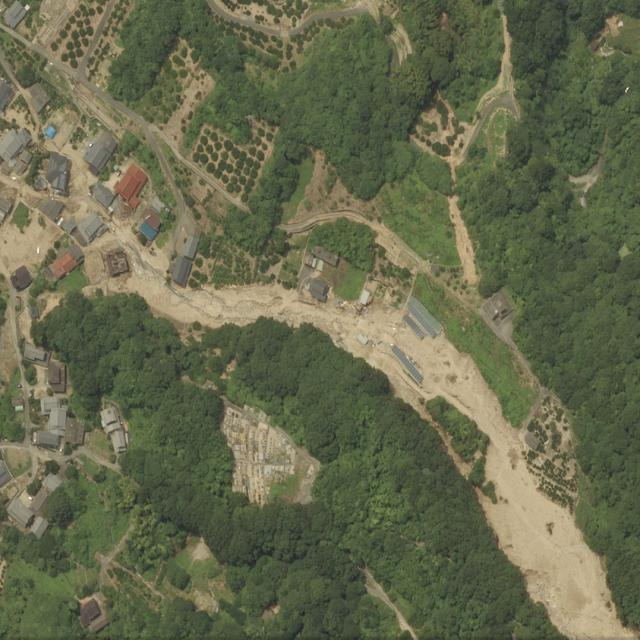landslide: (107, 223, 638, 640), (448, 195, 478, 284)
